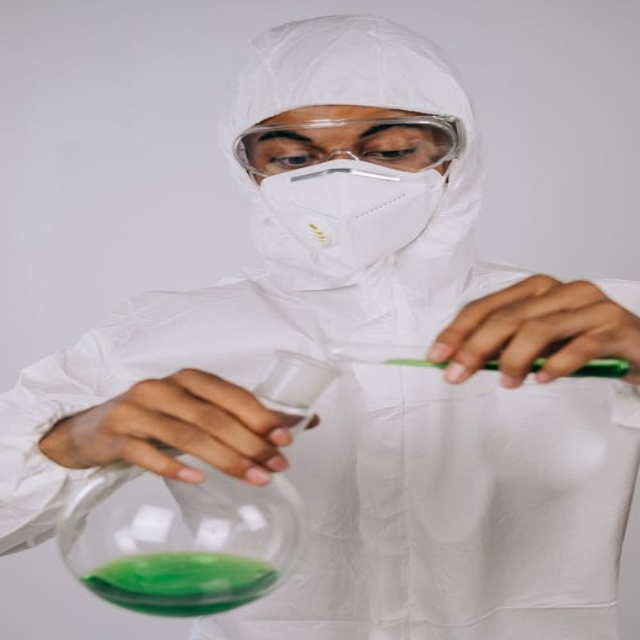Gafas: (236, 115, 464, 180)
Mascara: (255, 149, 451, 271)
Sin_guantes: (57, 366, 313, 490), (423, 271, 640, 393)
